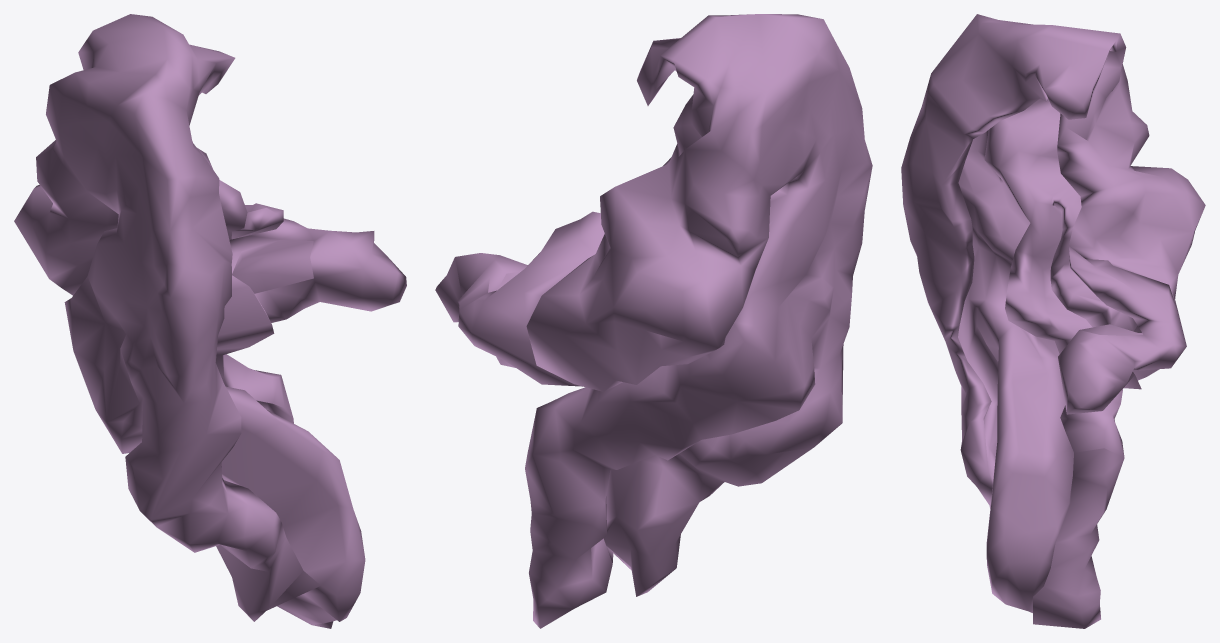
3 views of the same model, side by side, from view 1: azimuth 30°, elevation 25°; view 2: azimuth 150°, elevation 25°; view 3: azimuth 270°, elevation 25° (orthographic). The views are drawn at different scales.
Visible parts, largest first — view 1: 左侧舌回; view 2: 左侧舌回; view 3: 左侧舌回.
Boxes of the visible parts, bbox=[...] form: 左侧舌回: bbox=[14, 14, 406, 628]; 左侧舌回: bbox=[435, 14, 872, 628]; 左侧舌回: bbox=[901, 14, 1205, 628].
Bounding box in the file's own units: 0.0498 × 0.0897 × 0.0462.
